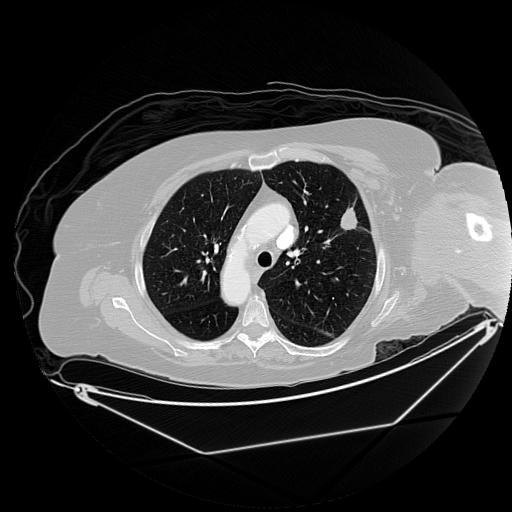nodule: (338, 206, 365, 233)
